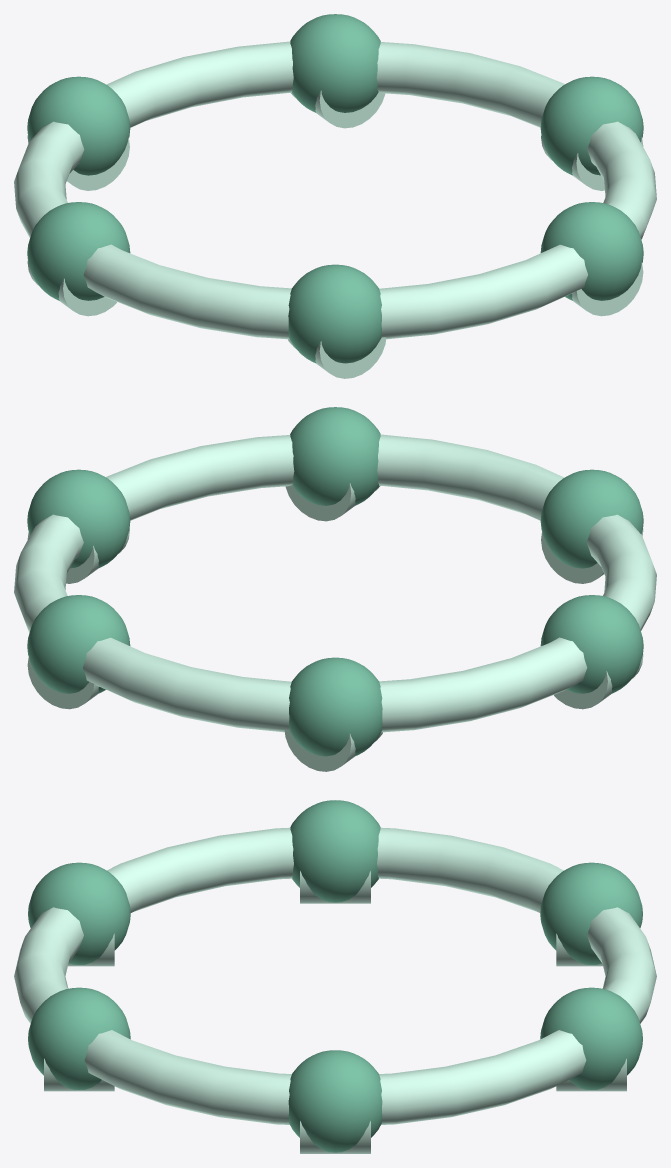
Rendered from flyer-shape-orbit-ring-v1.glb.
The picture shows the model from 3 angles, top to bottom: view 1: azimuth 30°, elevation 25°; view 2: azimuth 150°, elevation 25°; view 3: azimuth 270°, elevation 25°; orthographic projection.
Parts seen in each view (by area): view 1: Orbit Ring; view 2: Orbit Ring; view 3: Orbit Ring.
Part boxes in pixels (x1,y1,x2,y2): Orbit Ring: (14,14,656,378); Orbit Ring: (14,407,656,771); Orbit Ring: (14,800,656,1153).
Bounding box in the file's own units: 1.73 × 0.2624 × 1.6.
